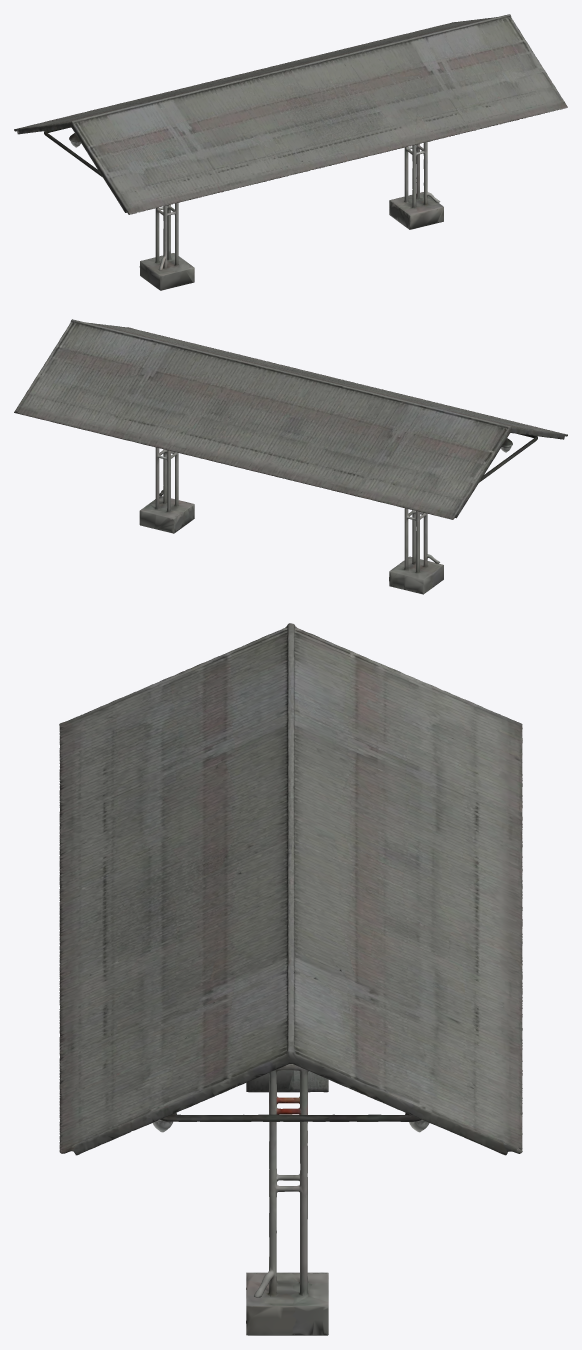
Rendered from shelter.glb.
3 views of the same model, one above another, from view 1: azimuth 30°, elevation 25°; view 2: azimuth 150°, elevation 25°; view 3: azimuth 270°, elevation 25° (orthographic). The views are drawn at different scales.
Bounding box in the file's own units: 2 × 0.7837 × 0.9132.
Materials: 1 (1 with a texture image).
